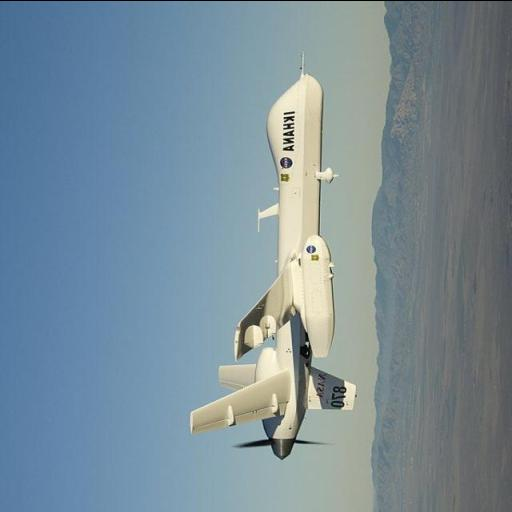uav: (184, 61, 370, 463)
